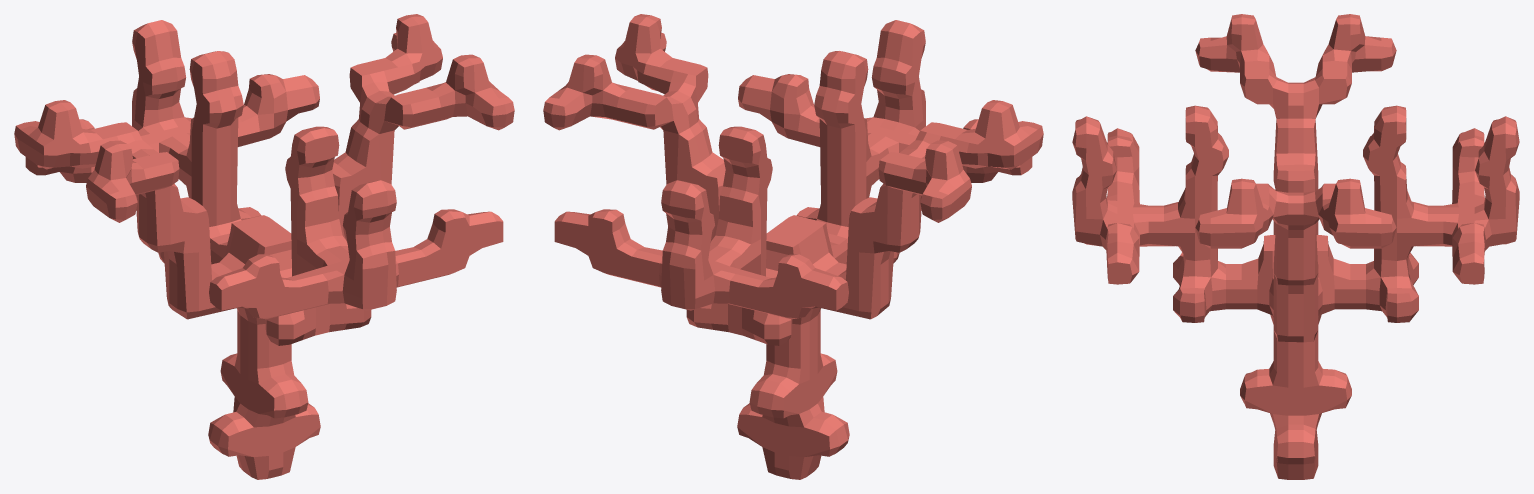
File: coral_2.fbx
The picture shows the model from 3 angles, left to right: view 1: azimuth 30°, elevation 25°; view 2: azimuth 150°, elevation 25°; view 3: azimuth 270°, elevation 25°; orthographic projection. The views are drawn at different scales.
Parts seen in each view (by area): view 1: coral 2; view 2: coral 2; view 3: coral 2.
Boxes of the visible parts, box(x1,y1,x2,y2) form: coral 2: box(14, 14, 514, 479); coral 2: box(543, 14, 1043, 479); coral 2: box(1072, 14, 1519, 479).
Bounding box in the file's own units: 400 × 370 × 400.
